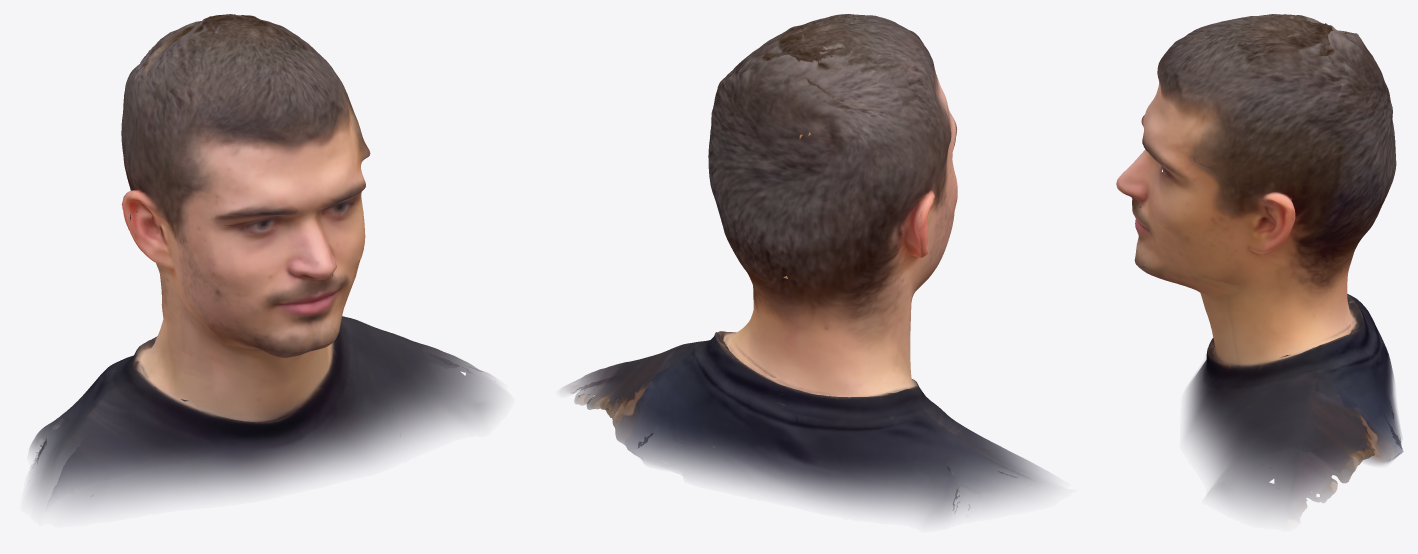
File: head-mesh.glb
3 views of the same model, side by side, from view 1: azimuth 30°, elevation 25°; view 2: azimuth 150°, elevation 25°; view 3: azimuth 270°, elevation 25° (orthographic). The views are drawn at different scales.
Parts seen in each view (by area): view 1: head; view 2: head; view 3: head.
Part boxes in pixels (<box>): head: <box>28,14,502,512</box>; head: <box>561,14,1055,521</box>; head: <box>1116,14,1403,518</box>.
Size of the model in its own units: 0.4289 by 0.346 by 0.2285.
Materials: 1 (1 with a texture image).
